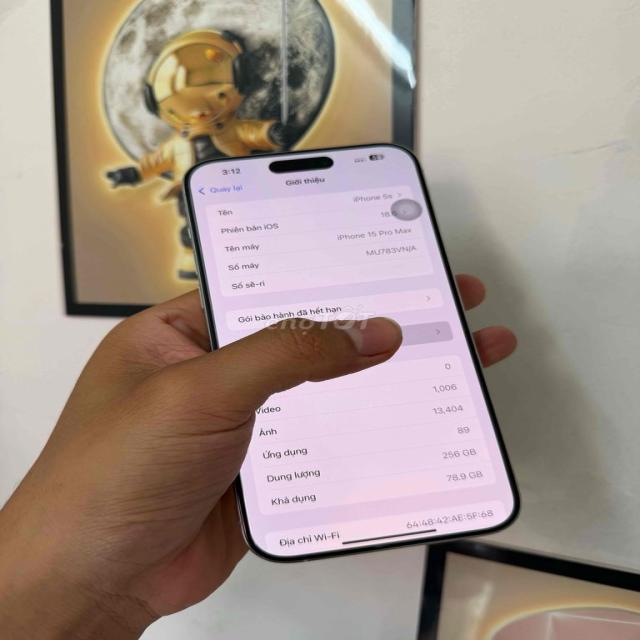gen_15: (178, 131, 538, 581)
